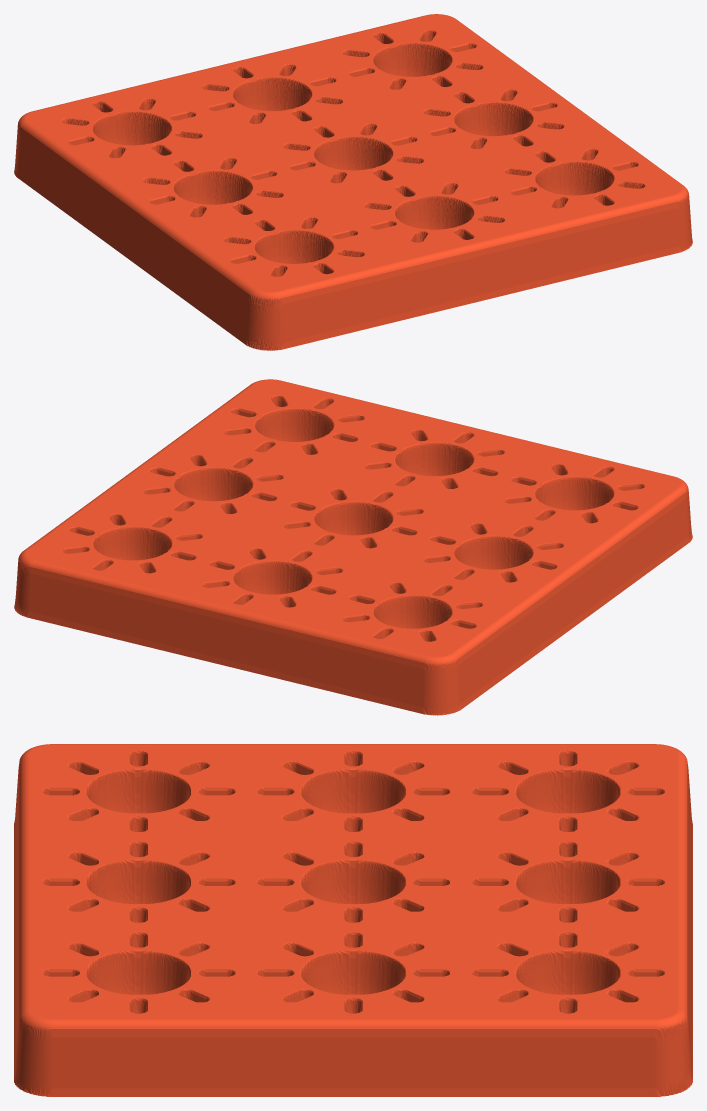
Rendered from mold.glb.
The picture shows the model from 3 angles, top to bottom: view 1: azimuth 30°, elevation 25°; view 2: azimuth 150°, elevation 25°; view 3: azimuth 270°, elevation 25°; orthographic projection. The views are drawn at different scales.
Visible parts, largest first — view 1: geometry_0; view 2: geometry_0; view 3: geometry_0.
Boxes of the visible parts, x1,y1,x2,y2 form: geometry_0: (14, 14, 692, 350); geometry_0: (14, 379, 692, 715); geometry_0: (14, 744, 692, 1096).
Size of the model in its own units: 0.1595 by 0.0185 by 0.1595.
